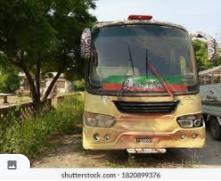bus: (81, 13, 203, 159)
